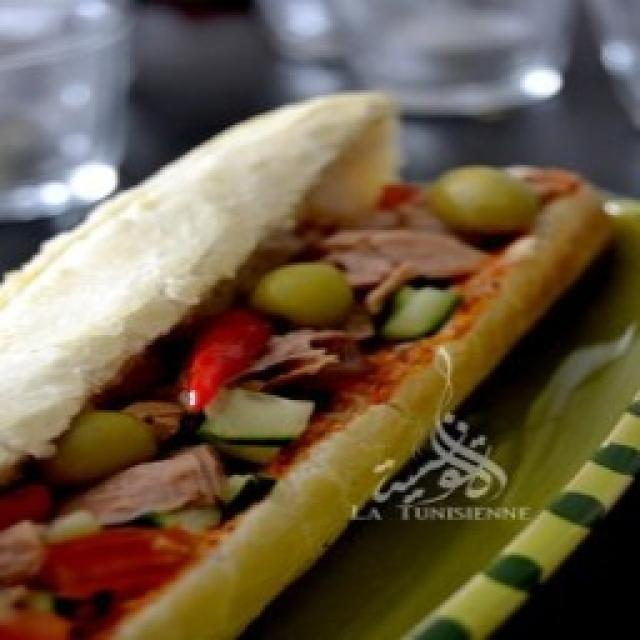Sandwitch tounsi: (0, 92, 609, 639)
